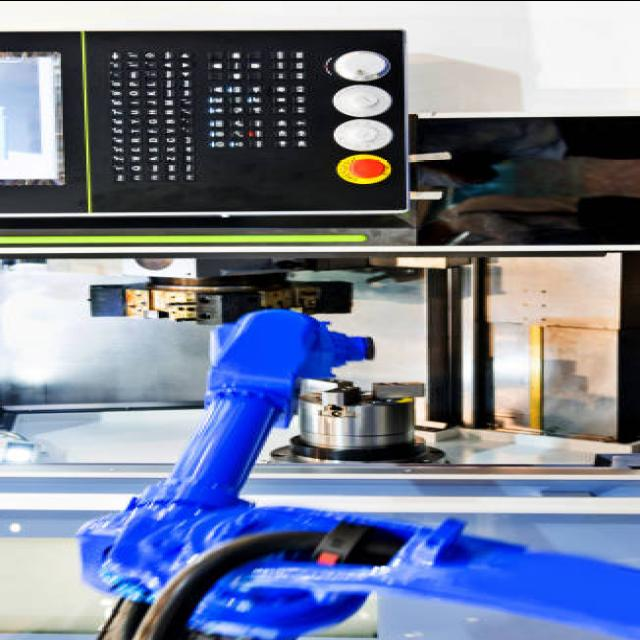Robotic-arm: (70, 309, 640, 639)
